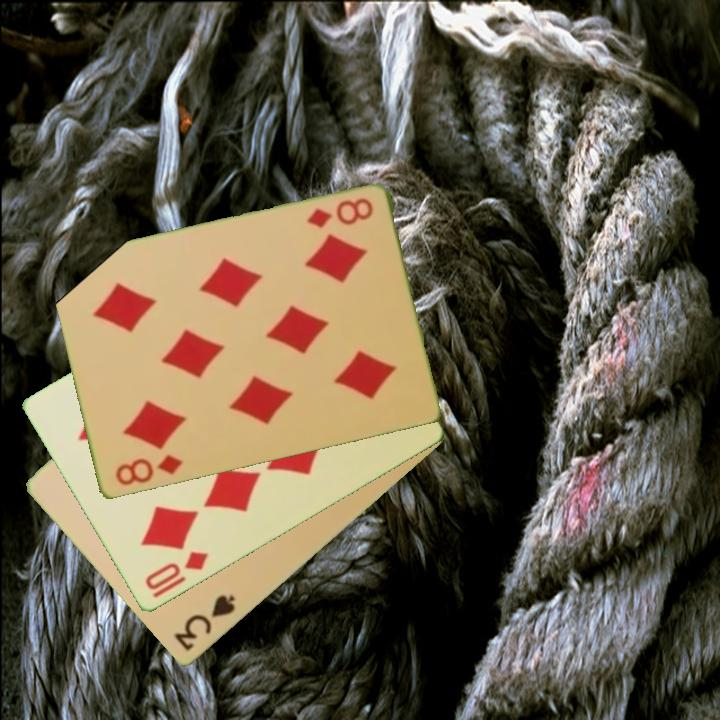10d: (141, 548, 212, 602)
3s: (170, 591, 238, 655)
8d: (111, 451, 186, 489), (302, 195, 376, 232)
